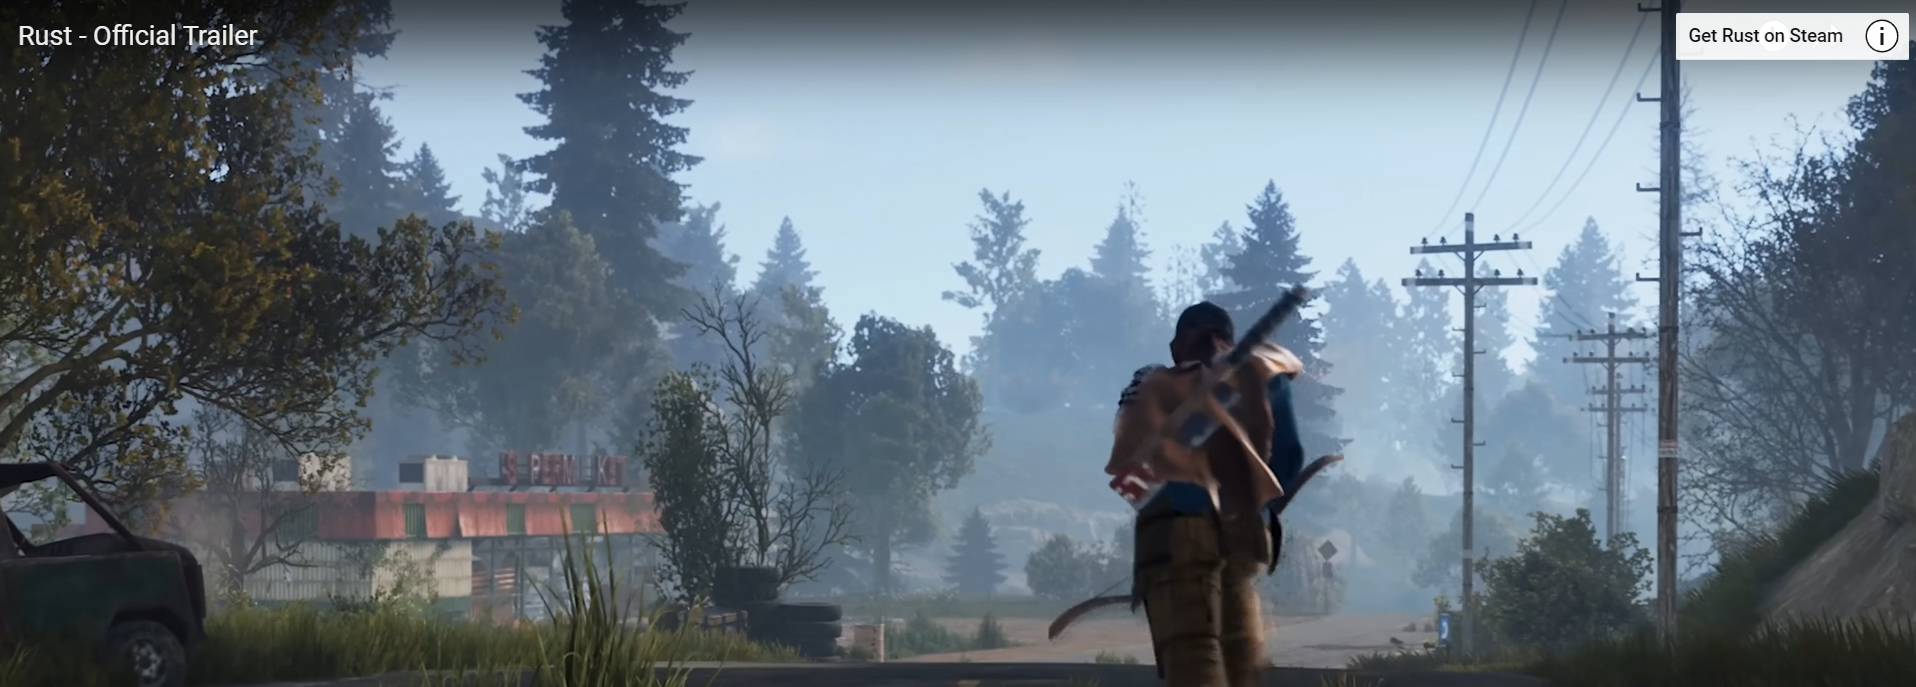tree: (543, 2, 671, 449), (806, 324, 953, 617), (451, 238, 591, 449), (957, 203, 1051, 510), (1537, 233, 1630, 446), (957, 518, 993, 592)
